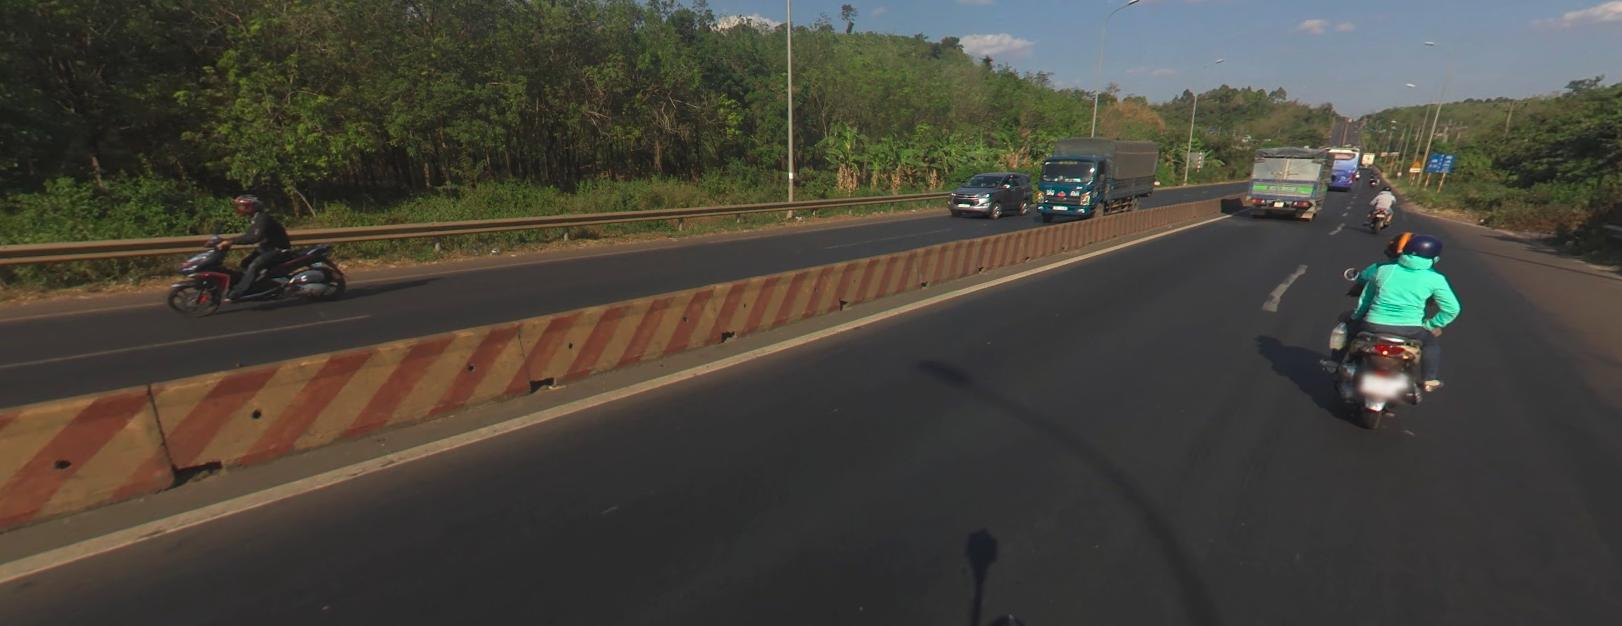Nguy hiem: (1410, 158, 1421, 166)
